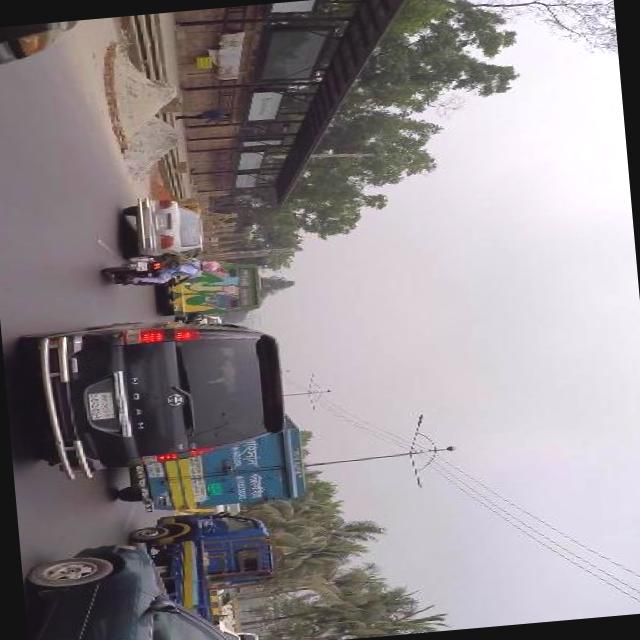bus: (158, 254, 274, 317)
car: (22, 526, 231, 640), (119, 191, 212, 262), (189, 309, 228, 328)
motorcycle: (94, 250, 166, 290)
truck: (28, 308, 290, 475), (100, 412, 308, 520), (130, 504, 289, 632), (235, 618, 275, 640)
